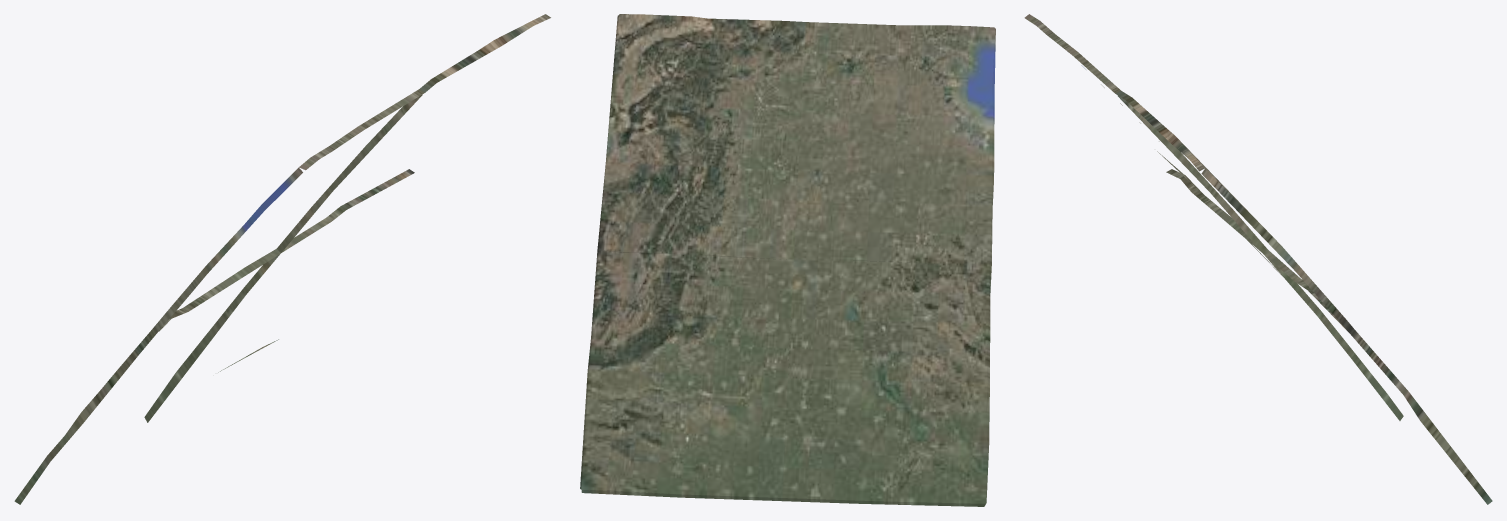
The picture shows the model from 3 angles, left to right: view 1: azimuth 30°, elevation 25°; view 2: azimuth 150°, elevation 25°; view 3: azimuth 270°, elevation 25°; orthographic projection. The views are drawn at different scales.
Size of the model in its own units: 620332 by 514387 by 559156.
Materials: 1 (1 with a texture image).
